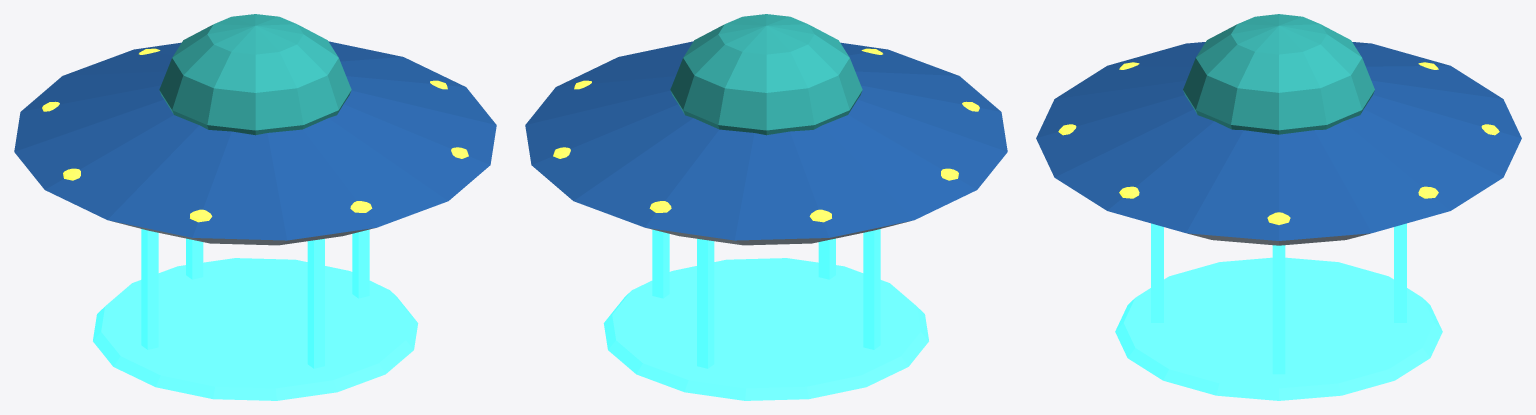
File: ufo_magnet.glb
3 renders of one model, left to right at view 1: azimuth 30°, elevation 25°; view 2: azimuth 150°, elevation 25°; view 3: azimuth 270°, elevation 25°, orthographic.
Parts seen in each view (by area): view 1: Saucer upper shell, Tractor beam base, Glass cockpit, Beam ray 3, Beam ray 2, Beam ray 0, Saucer lower shell, Beam ray 1; view 2: Saucer upper shell, Tractor beam base, Glass cockpit, Beam ray 1, Beam ray 2, Beam ray 0, Saucer lower shell, Beam ray 3; view 3: Saucer upper shell, Tractor beam base, Glass cockpit, Beam ray 0, Beam ray 1, Beam ray 3, Saucer lower shell.
Part boxes in pixels (box(x1,y1,x2,y2)): Saucer upper shell: box(14, 41, 496, 240); Tractor beam base: box(93, 258, 418, 400); Glass cockpit: box(159, 14, 351, 135); Beam ray 3: box(307, 238, 324, 368); Beam ray 2: box(141, 229, 158, 349); Beam ray 0: box(352, 229, 369, 298); Saucer lower shell: box(111, 221, 376, 245); Beam ray 1: box(186, 238, 203, 279); Saucer upper shell: box(525, 41, 1007, 240); Tractor beam base: box(603, 258, 928, 400); Glass cockpit: box(670, 14, 862, 135); Beam ray 1: box(697, 238, 714, 368); Beam ray 2: box(863, 229, 880, 349); Beam ray 0: box(652, 229, 669, 298); Saucer lower shell: box(645, 221, 910, 245); Beam ray 3: box(818, 238, 835, 279); Saucer upper shell: box(1036, 42, 1521, 240); Tractor beam base: box(1115, 257, 1442, 400); Glass cockpit: box(1183, 14, 1374, 134); Beam ray 0: box(1272, 245, 1285, 374); Beam ray 1: box(1394, 223, 1406, 322); Beam ray 3: box(1151, 223, 1163, 322); Saucer lower shell: box(1187, 233, 1370, 245).
Size of the model in its own units: 1.72 by 1.2 by 1.72.
